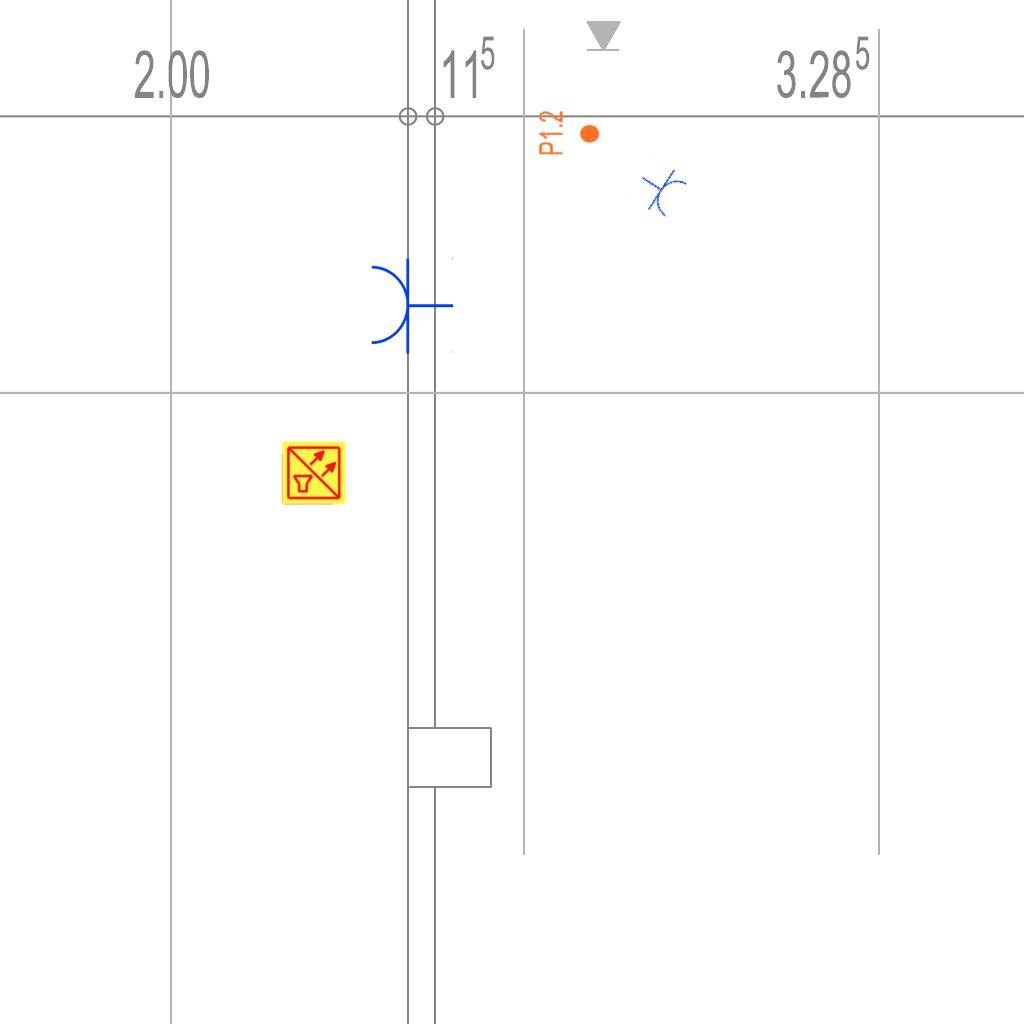Downlight_LED_Einbauleuchten_Flur: (537, 110, 601, 156)
OKW_Multisensormelder_(Kombination_optischer_Rauch-Kahlenmonoxid_Waerme-Melder): (281, 440, 347, 506)
Schukosteckdose_einfach: (367, 255, 454, 355), (628, 156, 692, 223)
